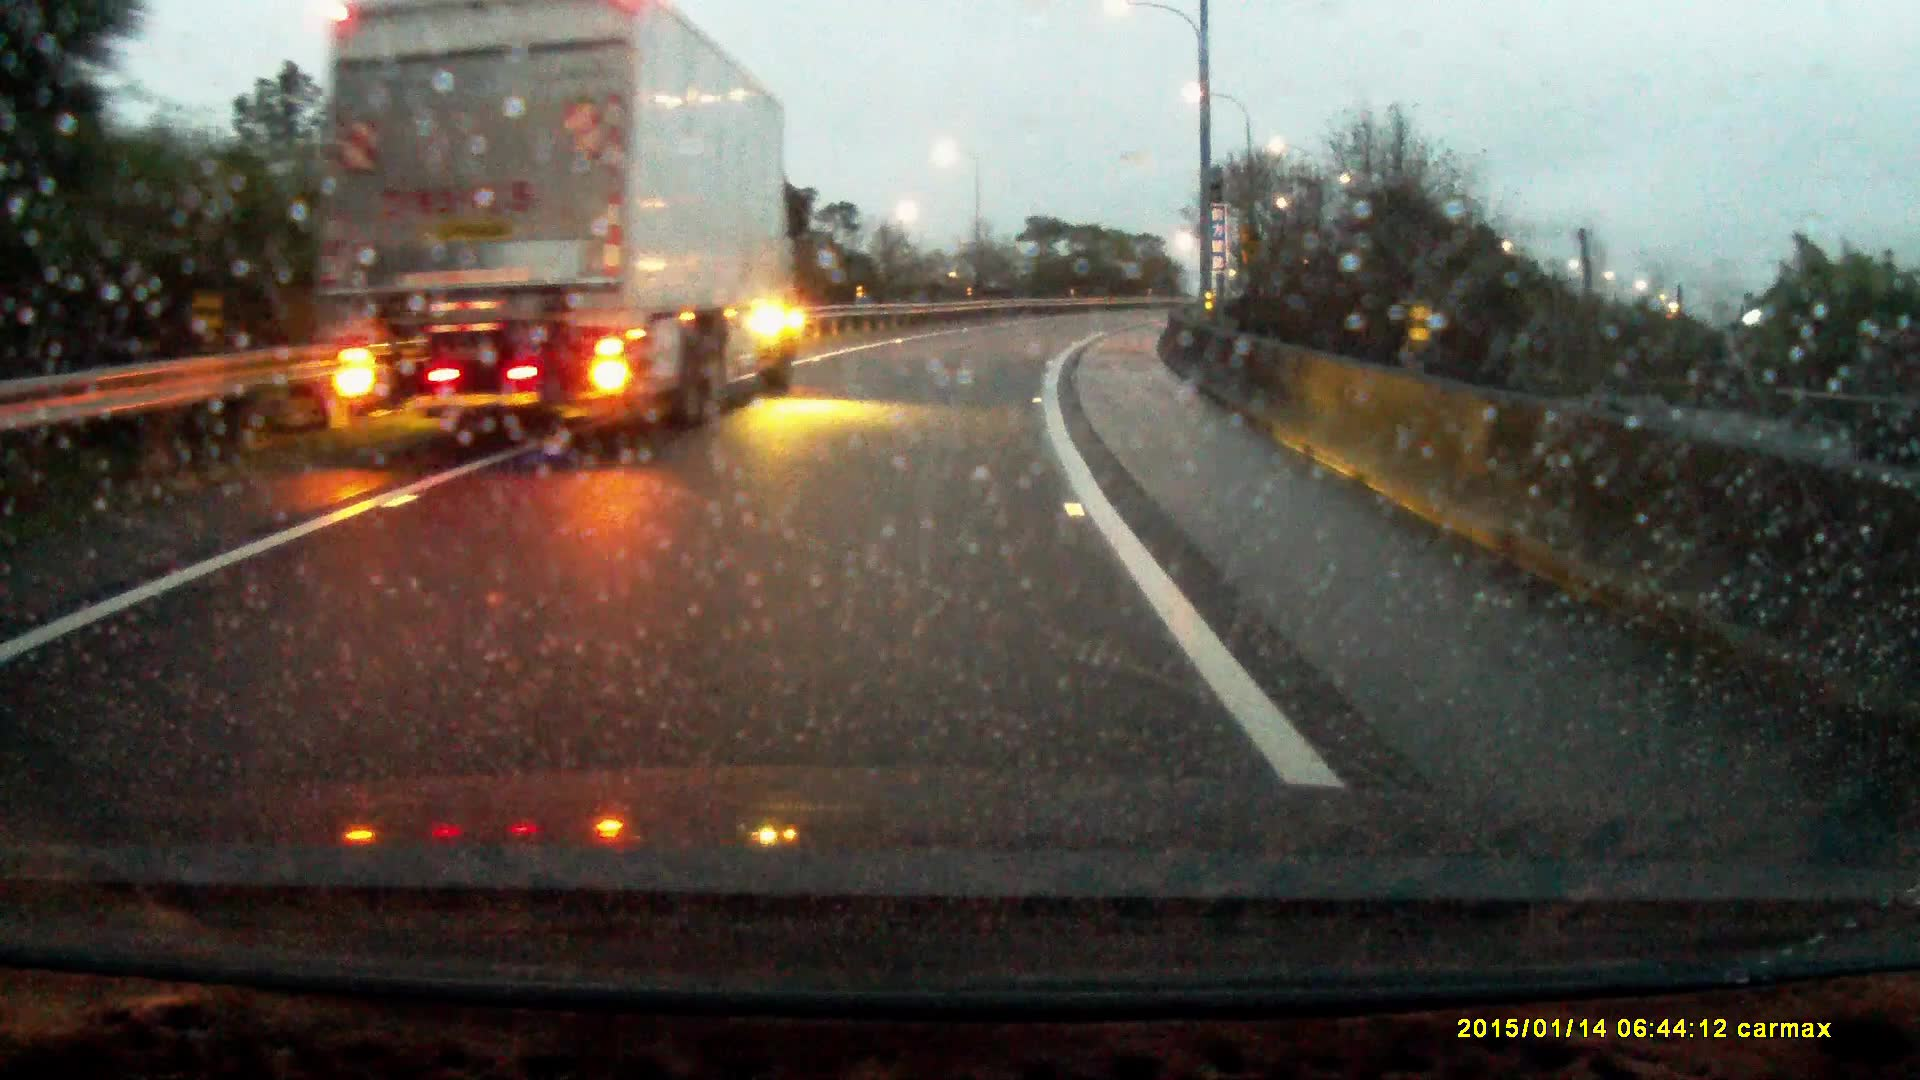vehicle: (311, 1, 808, 442)
